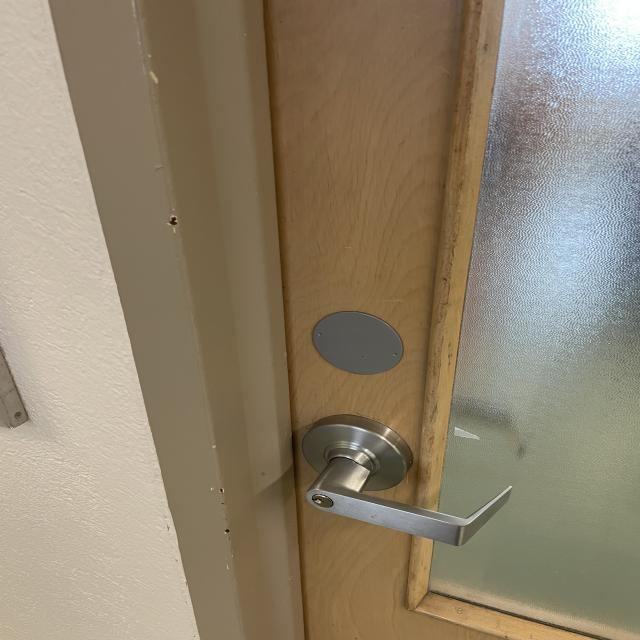door-handle: (302, 415, 512, 545)
